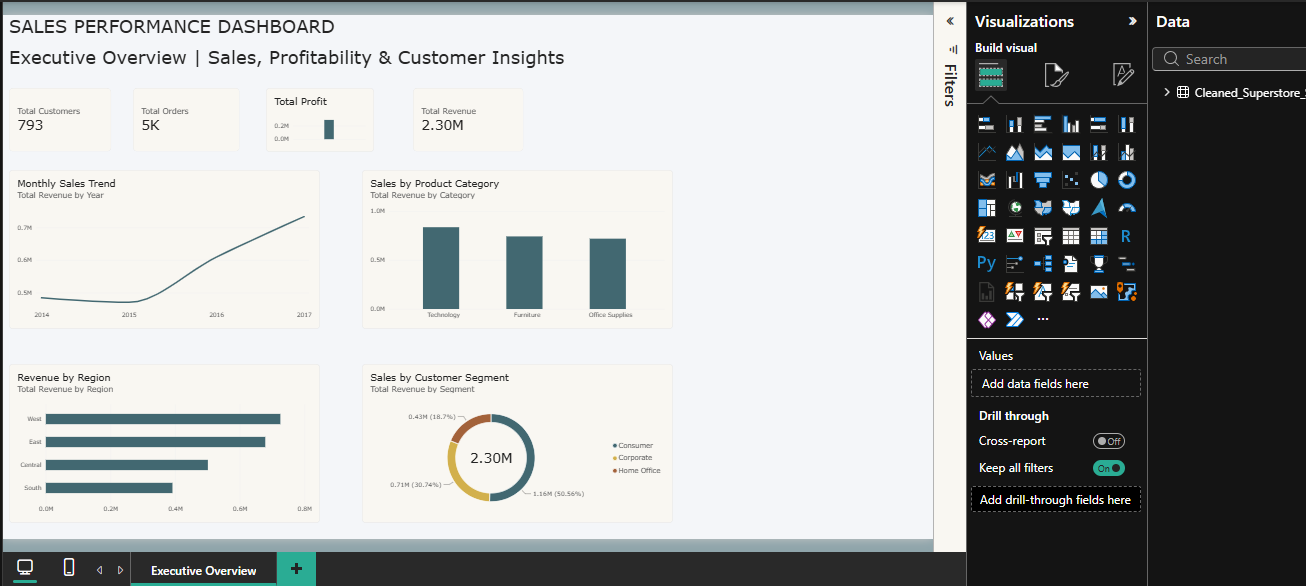

The page's visual inventory and layout, read from the dashboard file:
{"tool":"powerbi","page":{"name":"Executive Overview","canvas":[1920,1080],"ordinal":0},"visuals":[{"type":"textbox","box":[12,0,1354,132],"z":0},{"type":"cardVisual","fields":{"Data":["Cleaned_Superstore_Sales.Total Customers"]},"box":[12,150,211.7,131.7],"z":1},{"type":"cardVisual","fields":{"Data":["Cleaned_Superstore_Sales.Total Orders"]},"box":[268,150,220,131.7],"z":2},{"type":"cardVisual","fields":{"Data":["Cleaned_Superstore_Sales.Total Revenue"]},"box":[846,150,228.3,131.7],"z":3},{"type":"clusteredColumnChart","fields":{"Y":["Cleaned_Superstore_Sales.Total Profit"]},"box":[542,150,223.3,131.7],"z":4},{"type":"lineChart","title":"Monthly Sales Trend","fields":{"Category":["Cleaned_Superstore_Sales.Order Date.Variation.Date Hierarchy.Year","Cleaned_Superstore_Sales.Order Date.Variation.Date Hierarchy.Quarter","Cleaned_Superstore_Sales.Order Date.Variation.Date Hierarchy.Month","Cleaned_Superstore_Sales.Order Date.Variation.Date Hierarchy.Day"],"Y":["Cleaned_Superstore_Sales.Total Revenue"]},"box":[12,320,642,328],"z":5},{"type":"clusteredColumnChart","title":"Sales by Product Category","fields":{"Category":["Cleaned_Superstore_Sales.Category"],"Y":["Cleaned_Superstore_Sales.Total Revenue"]},"box":[742,320,642,328],"z":6},{"type":"clusteredBarChart","title":"Revenue by Region","fields":{"Category":["Cleaned_Superstore_Sales.Region"],"Y":["Cleaned_Superstore_Sales.Total Revenue"]},"box":[12,720,642,328],"z":7},{"type":"donutChart","title":"Sales by Customer Segment","fields":{"Category":["Cleaned_Superstore_Sales.Segment"],"Y":["Cleaned_Superstore_Sales.Total Revenue"]},"box":[742,720,642,328],"z":8}]}

Visuals, with their boxes on the page's 1920x1080 design canvas (x1, y1, x2, y2). These are canvas units, not pixel positions in the 1306x586 screenshot, which may show the page scaled, cropped or inside an application window:
textbox: rect(12, 0, 1366, 132)
cardVisual - Cleaned_Superstore_Sales.Total Customers: rect(12, 150, 224, 282)
cardVisual - Cleaned_Superstore_Sales.Total Orders: rect(268, 150, 488, 282)
cardVisual - Cleaned_Superstore_Sales.Total Revenue: rect(846, 150, 1074, 282)
clusteredColumnChart - Cleaned_Superstore_Sales.Total Profit: rect(542, 150, 765, 282)
"Monthly Sales Trend" lineChart: rect(12, 320, 654, 648)
"Sales by Product Category" clusteredColumnChart: rect(742, 320, 1384, 648)
"Revenue by Region" clusteredBarChart: rect(12, 720, 654, 1048)
"Sales by Customer Segment" donutChart: rect(742, 720, 1384, 1048)
